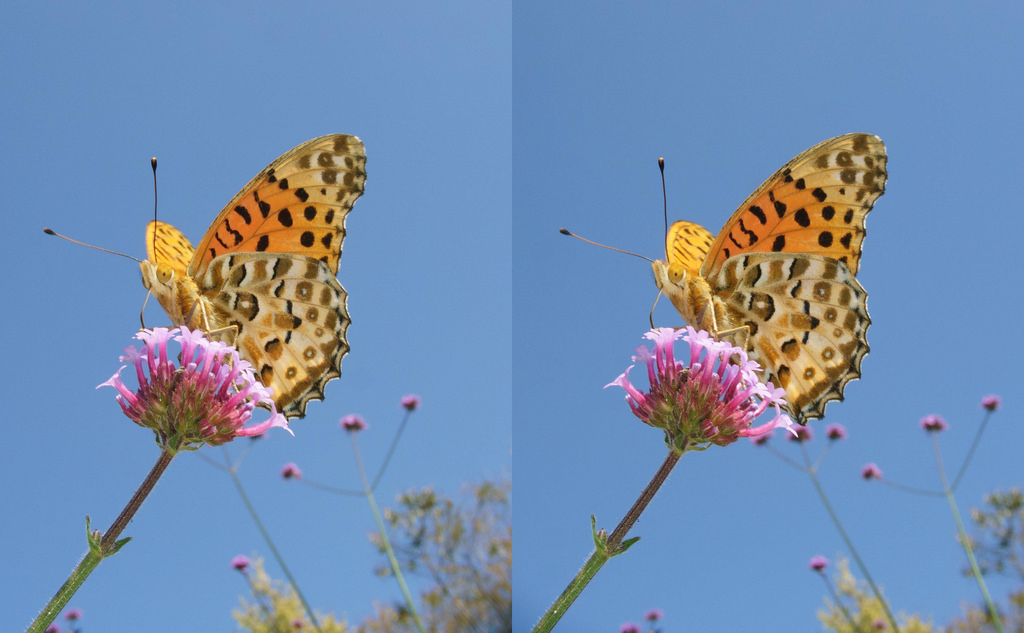Argyreus hyperbius: (557, 118, 900, 430), (36, 132, 385, 427)
butterfly: (559, 120, 902, 432), (34, 130, 383, 425)
